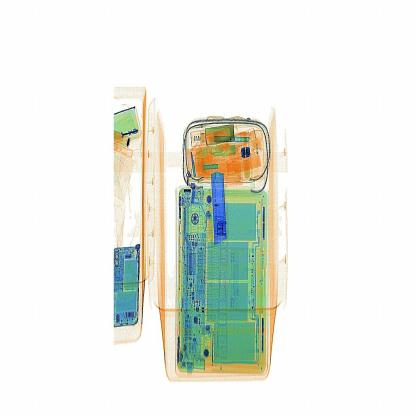pliers: (204, 163, 241, 257)
